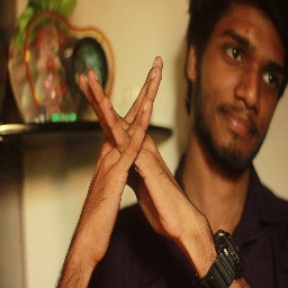W: (66, 52, 204, 244)
